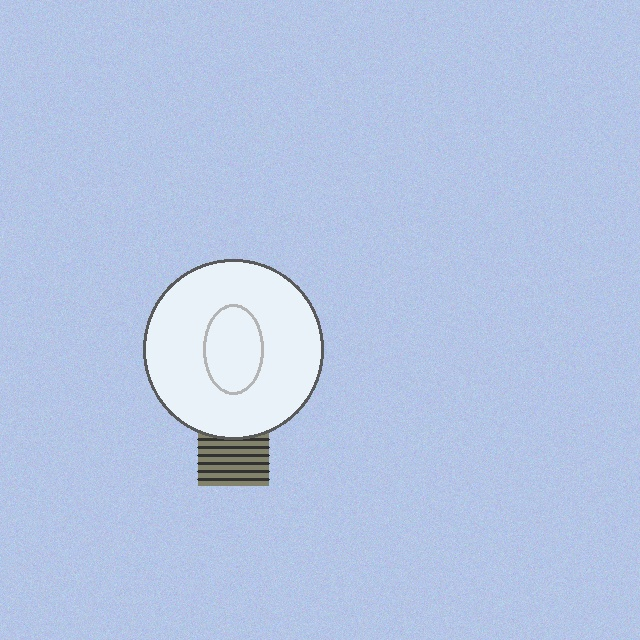bulb: (139, 255, 327, 490)
